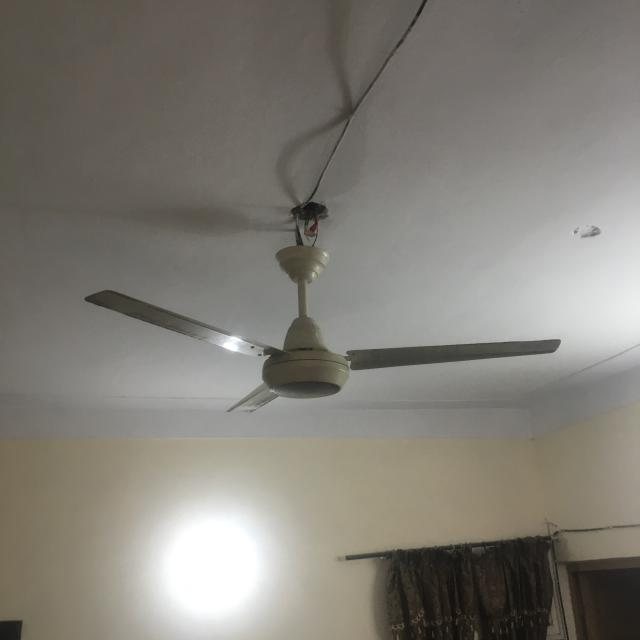off: (78, 271, 570, 426)
